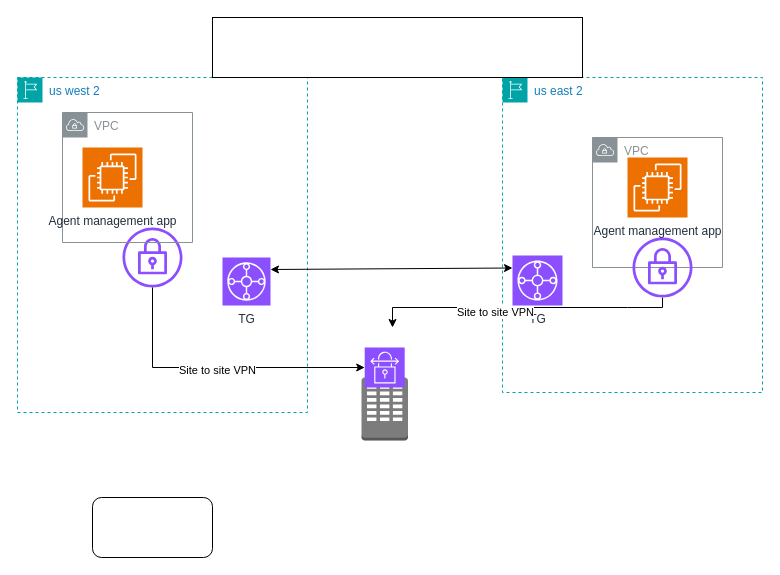
The diagram is 780 pixels wide and 575 high, and some of its shapes have lost their labels. Each missing label, with the centre of its shape:
DR for Missouri Office App and improve latency: the point at 397,47
On Prem - Hurdle CRM: the point at 152,527
